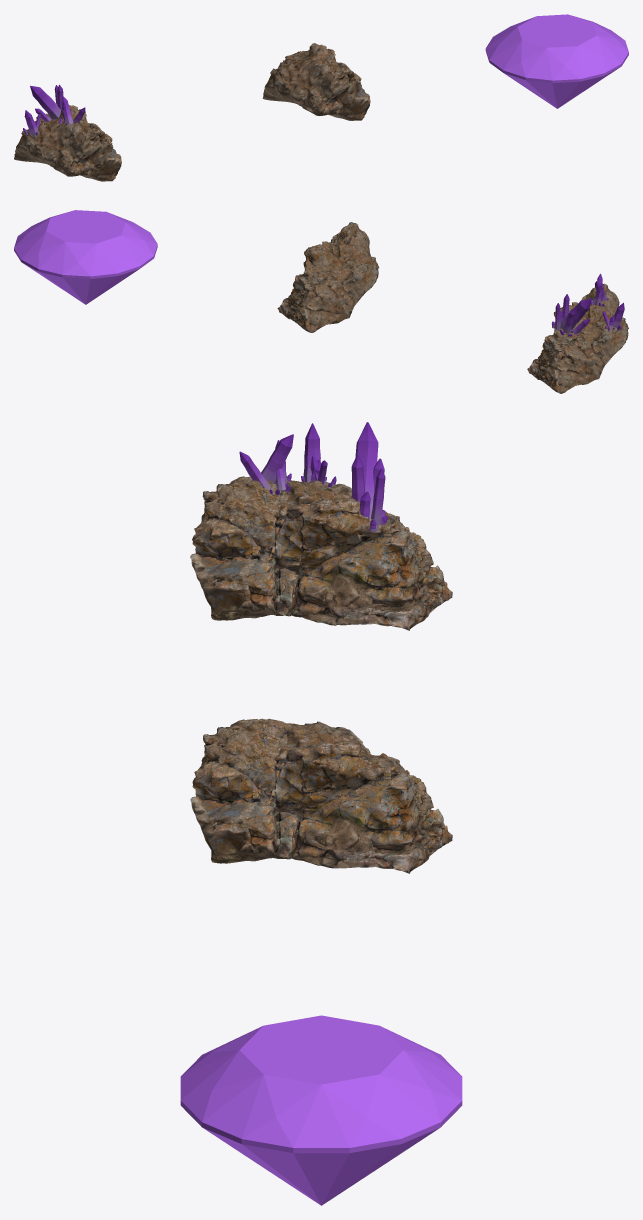
File: collect_burst_assets.fbx
The picture shows the model from 3 angles, top to bottom: view 1: azimuth 30°, elevation 25°; view 2: azimuth 150°, elevation 25°; view 3: azimuth 270°, elevation 25°; orthographic projection. The views are drawn at different scales.
Visible parts, largest first — view 1: Gem, Chunk1, Rock, Crystals; view 2: Gem, Chunk1, Rock, Crystals; view 3: Gem, Chunk1, Rock, Crystals.
Boxes of the visible parts, x1,y1,x2,y2 form: Gem: [485, 14, 628, 108]; Chunk1: [262, 43, 370, 120]; Rock: [14, 105, 121, 181]; Crystals: [23, 84, 85, 137]; Gem: [14, 210, 157, 304]; Chunk1: [277, 222, 378, 332]; Rock: [527, 283, 628, 393]; Crystals: [551, 273, 624, 336]; Gem: [180, 1015, 462, 1205]; Chunk1: [190, 718, 452, 873]; Rock: [190, 476, 452, 630]; Crystals: [239, 422, 388, 532].
Size of the model in its own units: 9.62 by 2.17 by 1.96.
3 materials, 2 textured.
